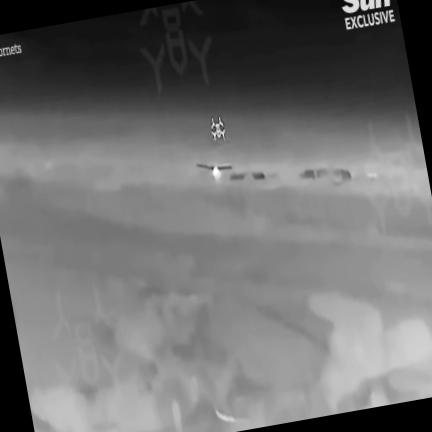Shahed: (197, 163, 232, 180)
